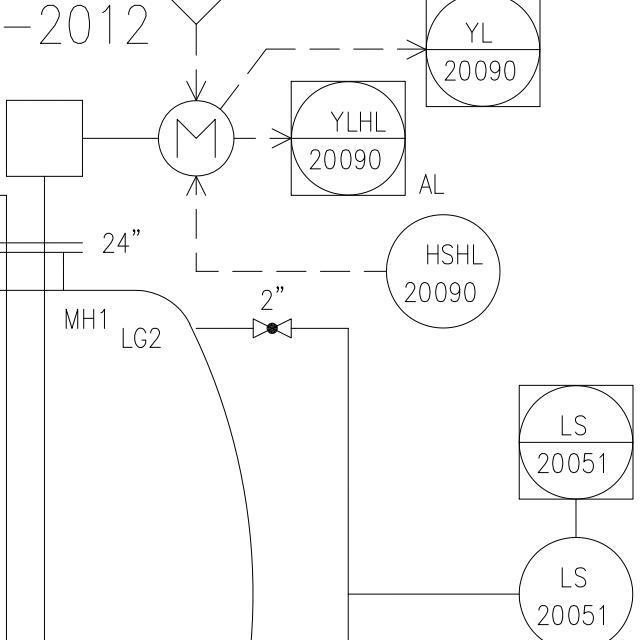BV2: (247, 312, 298, 342)
M: (158, 98, 239, 177)
